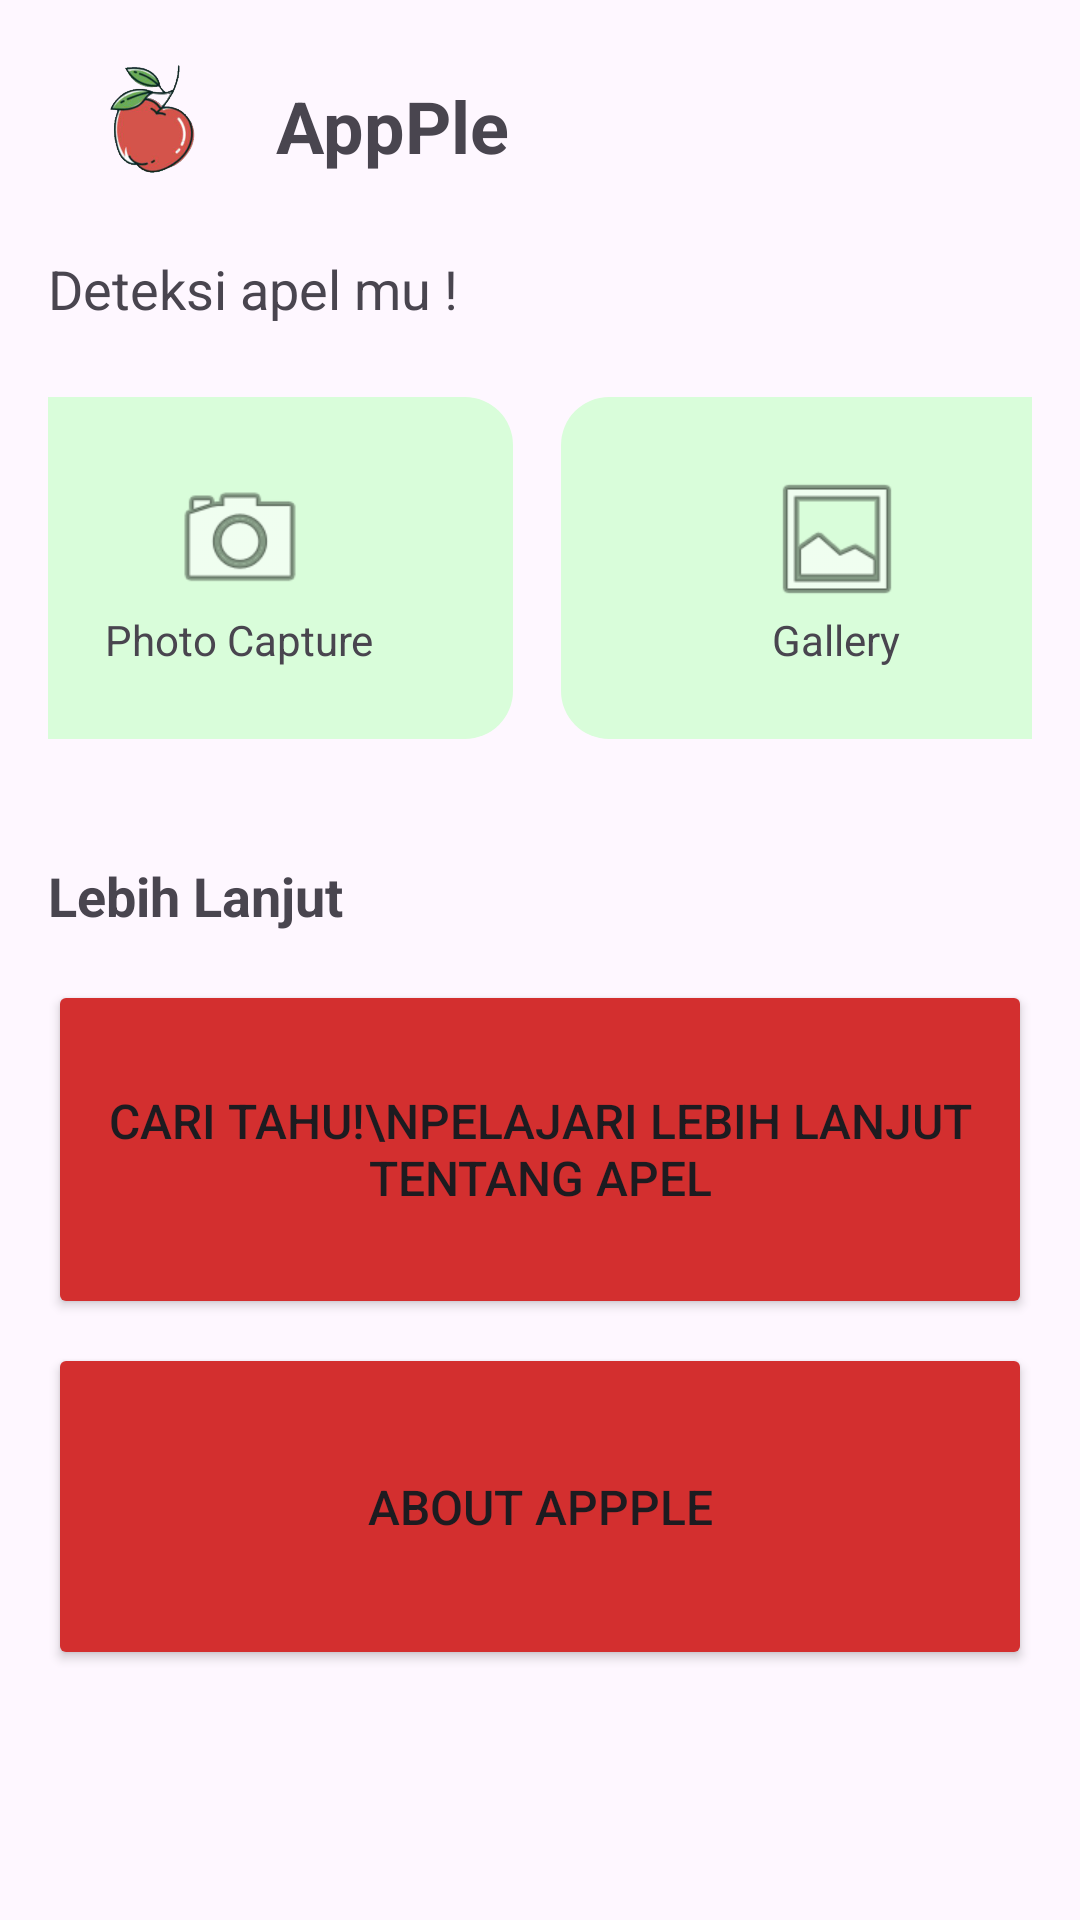

Icon bounding boxes for this 1080 × 1920 phone screenshot, format [x1,y1,x2,y2]:
camera: [184,492,296,582]
